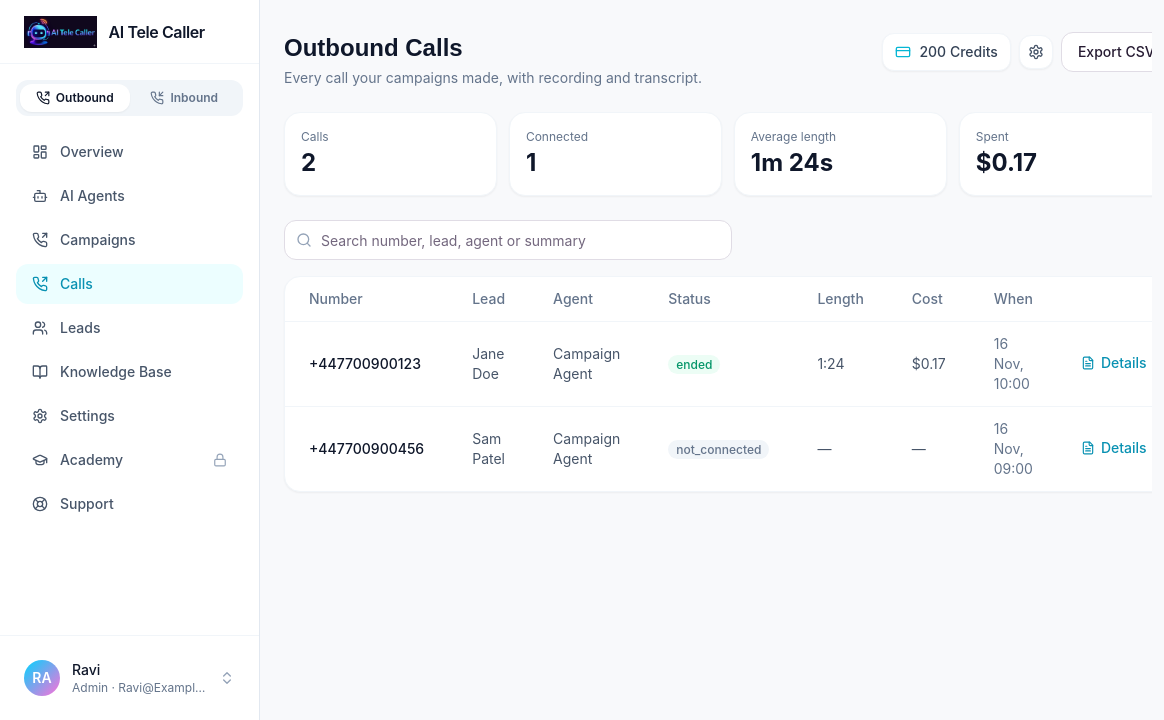
Test: the outbound call log › search narrows by lead name
Expected: the text "Jane Doe" is shown, [448,322,529,406]
Type "Sam" into the field with placeholder "Search number, lead, agent or summary" at (508, 240), box [284,220,732,260]
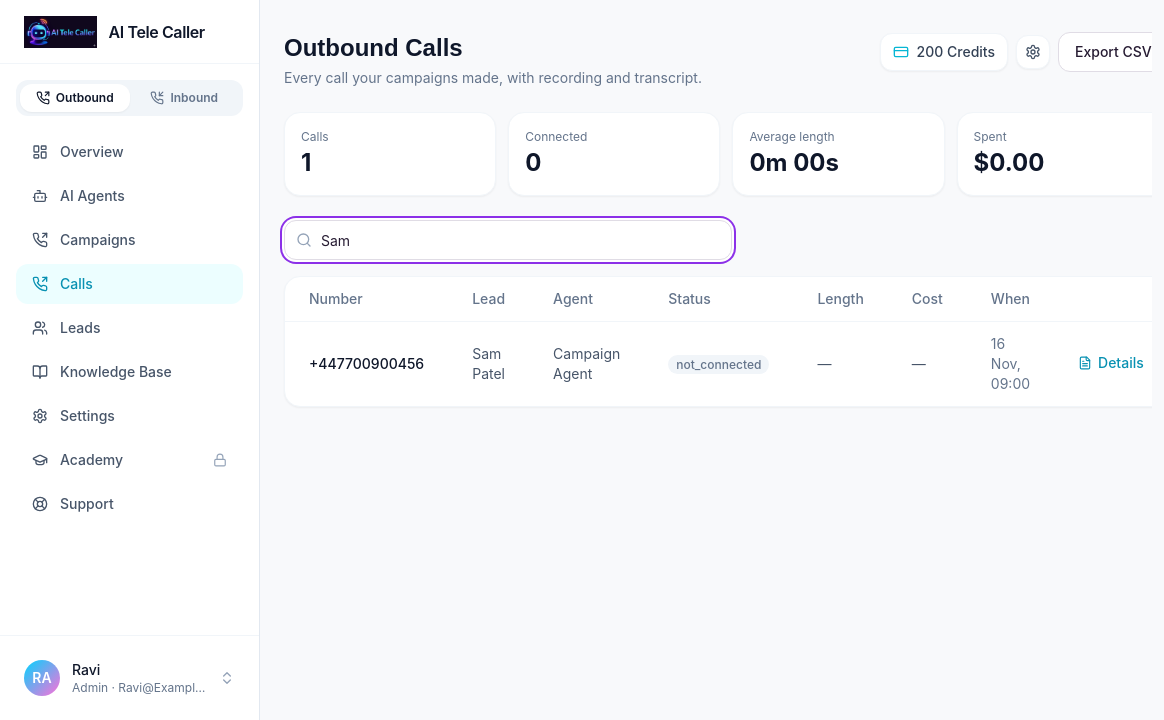
Expected: the text "Sam Patel" is shown, [448,322,529,406]
Expected: the text "Jane Doe" is gone
